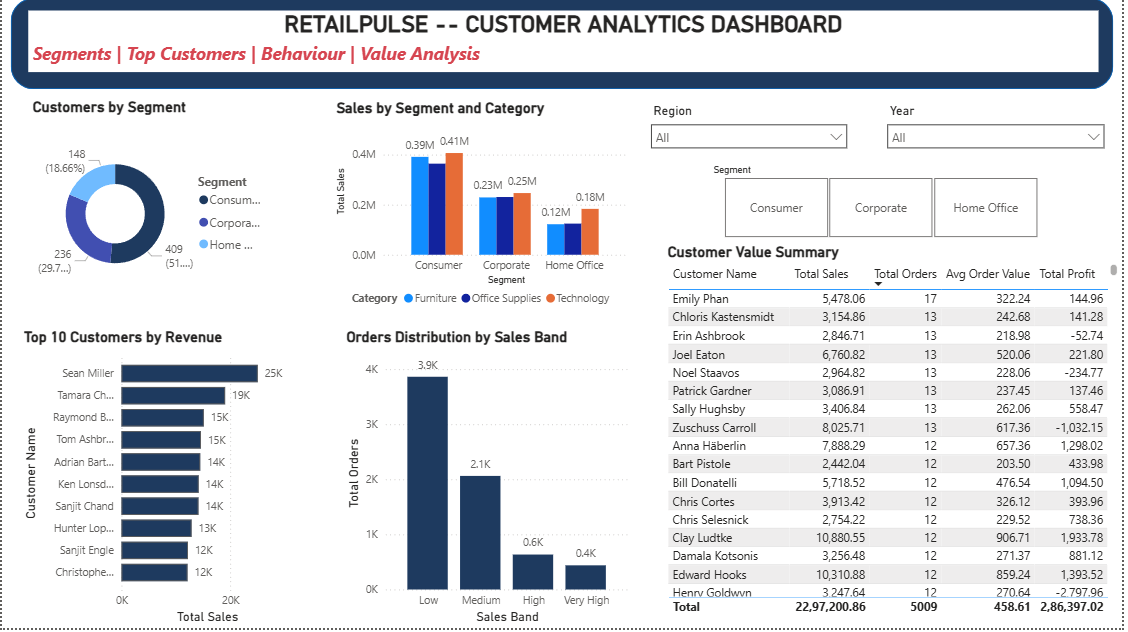

What the dashboard file says about the page in this screenshot:
{"tool":"powerbi","page":{"name":"Customer Analytics","canvas":[1280,720],"ordinal":3},"visuals":[{"type":"shape","box":[10,0,1260,104.3],"z":0},{"type":"textbox","title":"RETAILPULSE -- CUSTOMER ANALYTICS DASHBOARD","box":[30,14.3,1222.9,70],"z":1},{"type":"donutChart","title":" Customers by Segment","fields":{"Y":["Sales Measures.Total Customers"],"Category":["Sales Measures.Segment"]},"box":[30,114.3,280,245.7],"z":7},{"type":"clusteredBarChart","title":"Top 10 Customers by Revenue","fields":{"Category":["Sales Measures.Customer Name"],"Y":["Sales Measures.Total Sales"]},"box":[20,377.1,328.6,342.9],"z":8},{"type":"clusteredColumnChart","title":" Sales by Segment and Category","fields":{"Category":["Sales Measures.Segment"],"Y":["Sales Measures.Total Sales"],"Series":["Sales Measures.Category"]},"box":[377.1,115.7,344.3,245.7],"z":9},{"type":"clusteredColumnChart","title":" Orders Distribution by Sales Band","fields":{"Category":["Sales Measures.Sales Band"],"Y":["Sales Measures.Total Orders"]},"box":[388.6,377.1,332.9,342.9],"z":10},{"type":"tableEx","title":"Customer Value Summary","fields":{"Values":["Sales Measures.Customer Name","Sales Measures.Total Sales","Sales Measures.Total Orders","Sales Measures.Avg Order Value","Sales Measures.Total Profit"]},"box":[755.7,280,524.3,430],"z":12},{"type":"slicer","fields":{"Values":["Sales Measures.Segment"]},"box":[800,184.3,407.1,95.7],"z":13},{"type":"slicer","fields":{"Values":["Date Table.Year"]},"box":[1001.4,115.7,268.6,68.6],"z":14},{"type":"slicer","fields":{"Values":["Sales Measures.Region"]},"box":[731.4,115.7,244.3,68.6],"z":15}]}

Visuals, with their boxes in screenshot pixels (x1, y1, x2, y2), scaled from the page's 1280x720 canvas onto the 1128x632 screenshot:
shape: [left=9, top=0, right=1119, bottom=92]
"RETAILPULSE -- CUSTOMER ANALYTICS DASHBOARD" textbox: [left=26, top=13, right=1104, bottom=74]
" Customers by Segment" donutChart: [left=26, top=100, right=273, bottom=316]
"Top 10 Customers by Revenue" clusteredBarChart: [left=18, top=331, right=307, bottom=631]
" Sales by Segment and Category" clusteredColumnChart: [left=332, top=102, right=636, bottom=317]
" Orders Distribution by Sales Band" clusteredColumnChart: [left=342, top=331, right=636, bottom=631]
"Customer Value Summary" tableEx: [left=666, top=246, right=1127, bottom=623]
slicer - Sales Measures.Segment: [left=705, top=162, right=1064, bottom=246]
slicer - Date Table.Year: [left=882, top=102, right=1119, bottom=162]
slicer - Sales Measures.Region: [left=645, top=102, right=860, bottom=162]
